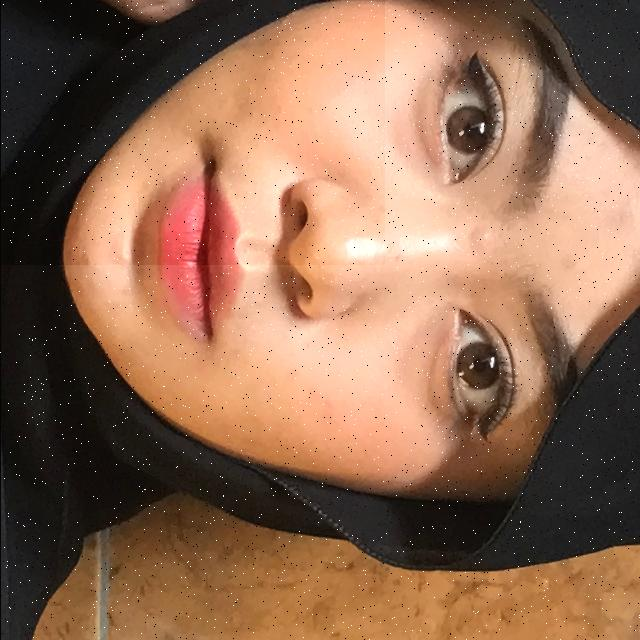ibu: (0, 0, 384, 265)
